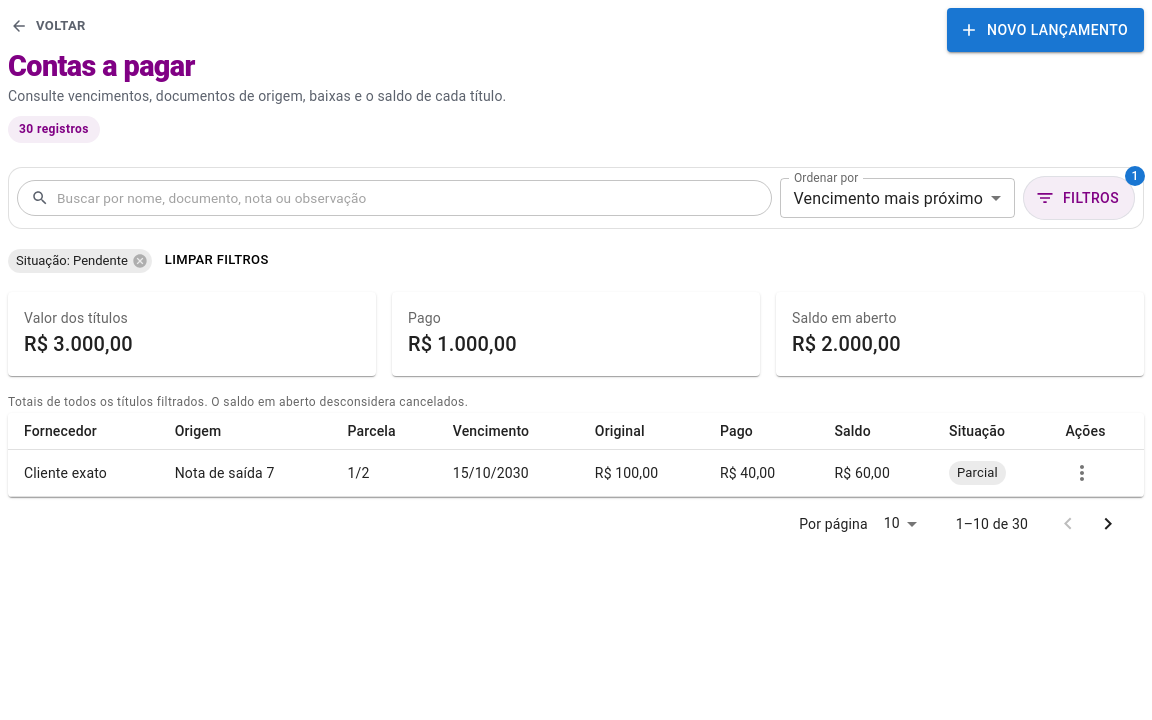
Test: Financeiro operacional › novo título a pagar abre em página e mantém a lista ao voltar
Click the button "Novo lançamento".
click(1046, 30)  # box [947, 8, 1144, 52]
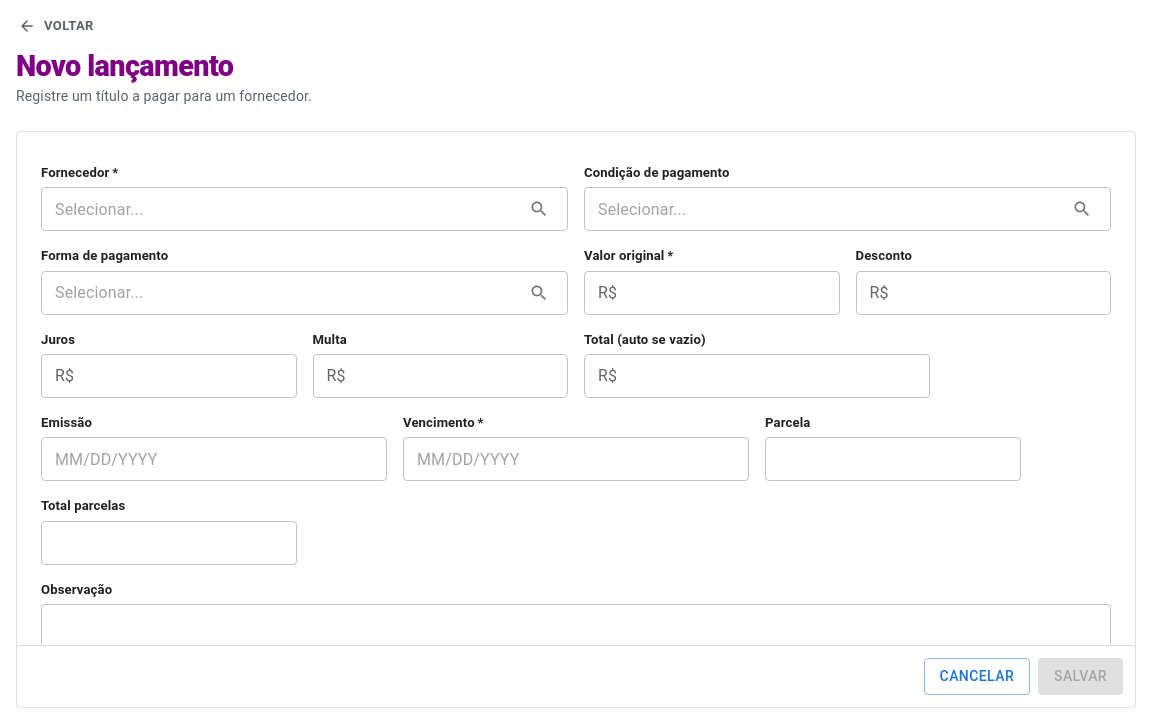
Expected: the button named "Selecionar fornecedor" is enabled, [524, 194, 554, 224]
Now the heading "Novo lançamento" is shown, box [16, 49, 233, 83]
Now the button "Salvar" is disabled, box [1038, 658, 1123, 695]
Type "10" into the number field labelled "Valor original *".
click(732, 293); type("10")  # box [625, 273, 840, 313]
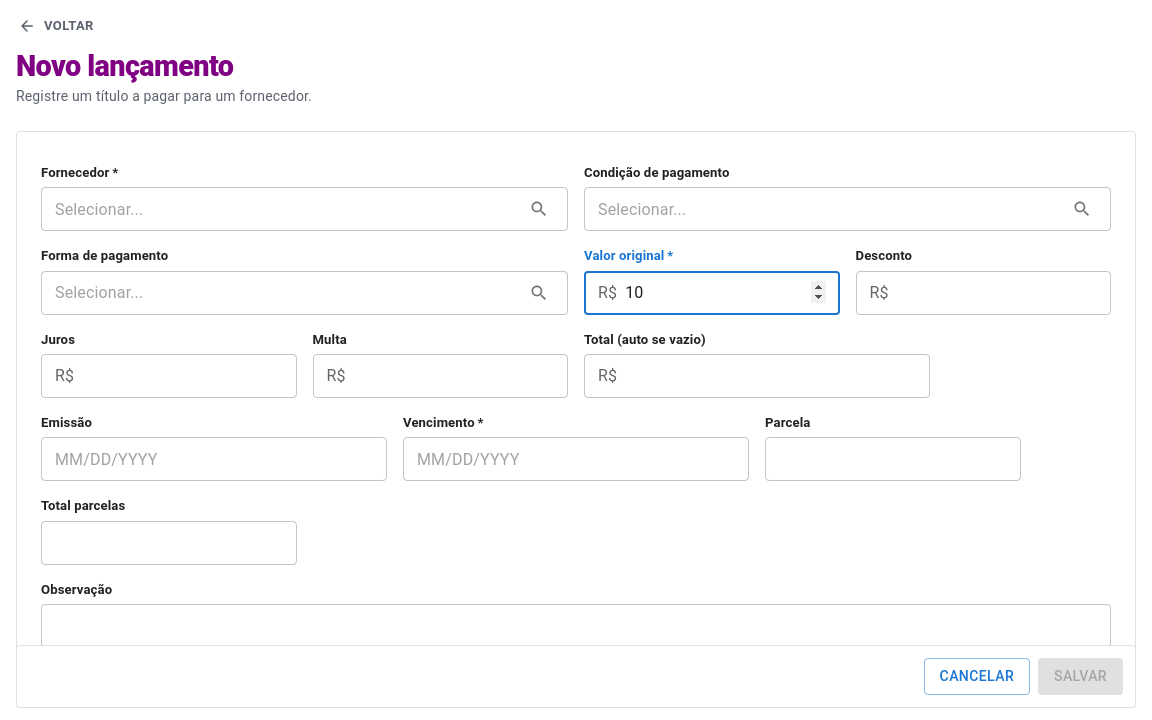
Click the button "Voltar".
click(57, 26)  # box [16, 8, 98, 44]
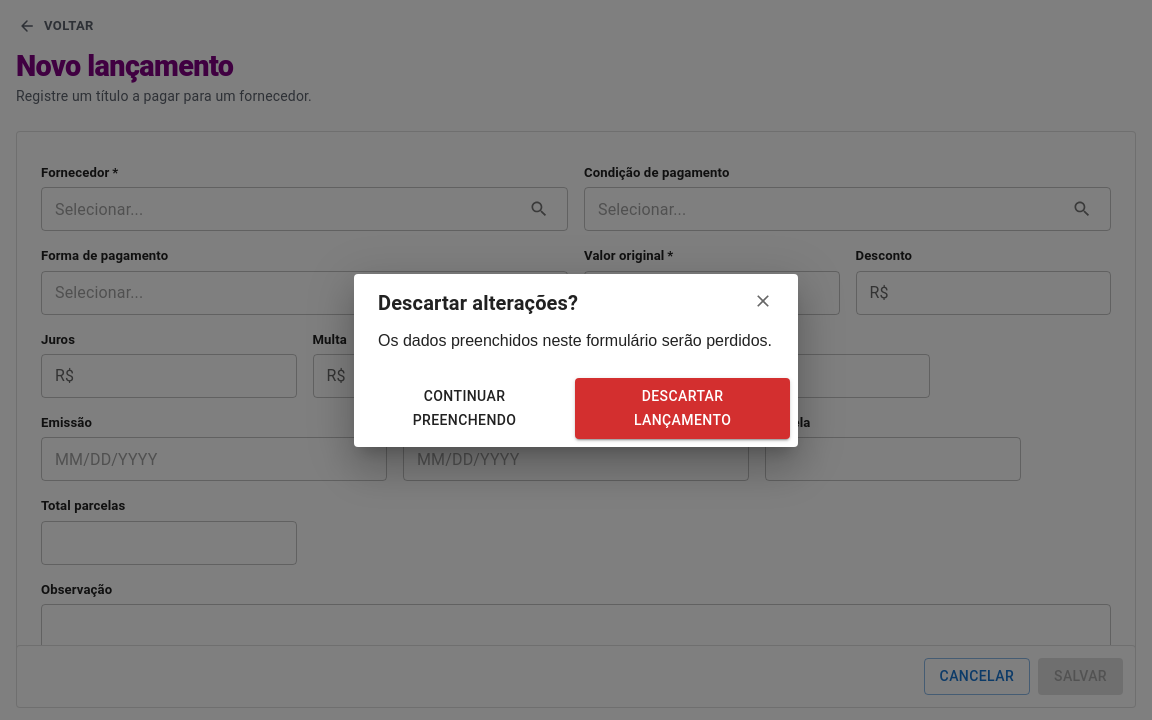
Click the button "Descartar lançamento".
click(683, 408)  # box [575, 378, 790, 438]
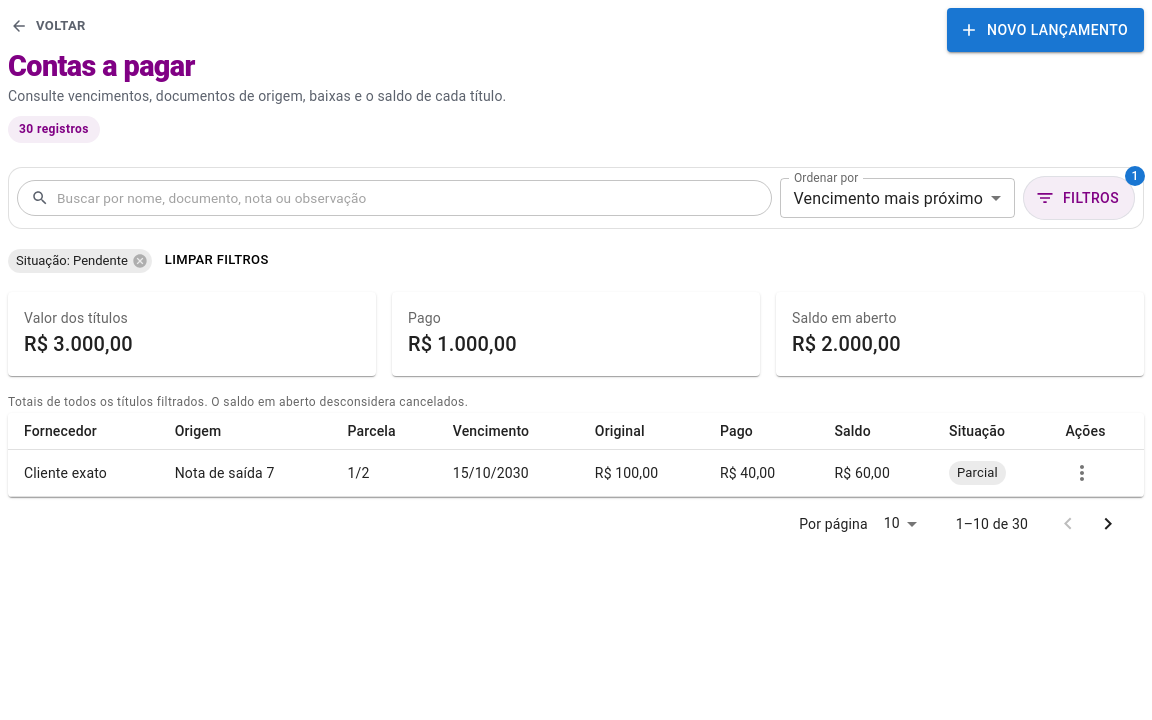
Now the heading "Contas a pagar" is shown, box [8, 49, 195, 83]
